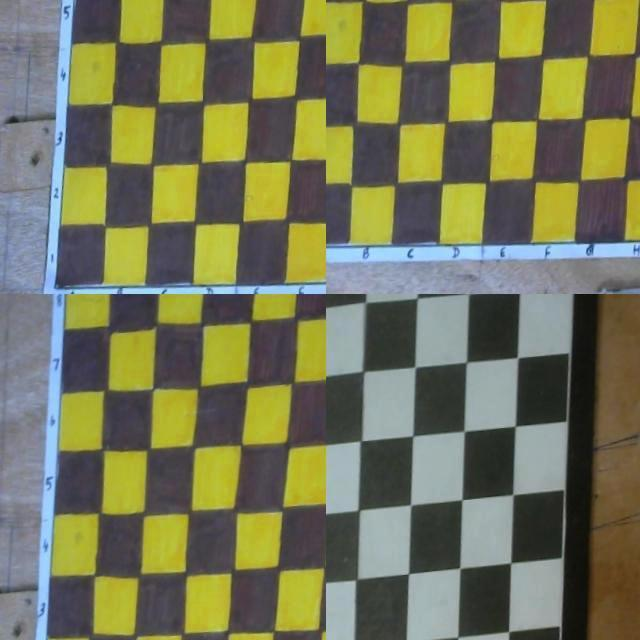chess-table-corners: (62, 284, 70, 292), (328, 0, 337, 5), (81, 0, 89, 4), (326, 241, 329, 251), (63, 294, 71, 297), (574, 294, 580, 297), (326, 294, 328, 297)
